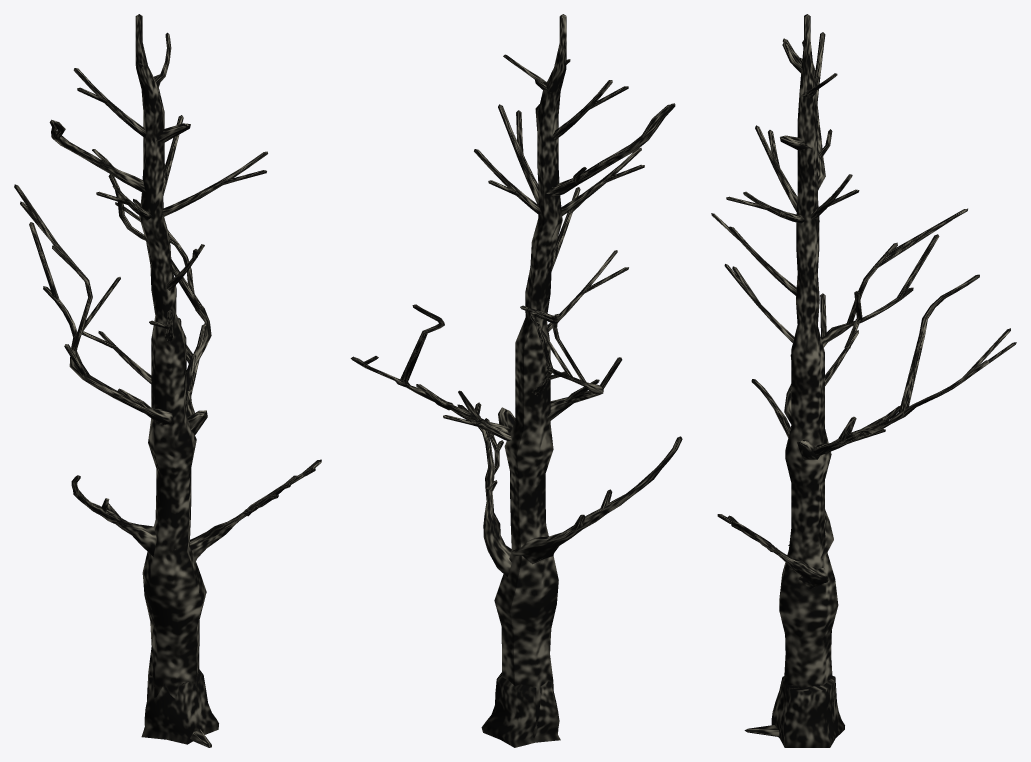
The model's file is VerTreeDead03.glb.
3 views of the same model, side by side, from view 1: azimuth 30°, elevation 25°; view 2: azimuth 150°, elevation 25°; view 3: azimuth 270°, elevation 25° (orthographic). The views are drawn at different scales.
Visible parts, largest first — view 1: VerTreeDead03_limbs; view 2: VerTreeDead03_limbs; view 3: VerTreeDead03_limbs.
Part boxes in pixels (x1,y1,x2,y2): VerTreeDead03_limbs: (14,14,321,747); VerTreeDead03_limbs: (350,14,682,747); VerTreeDead03_limbs: (711,14,1016,747).
Bounding box in the file's own units: 3.67 × 10.46 × 4.1.
Materials: 1 (1 with a texture image).
